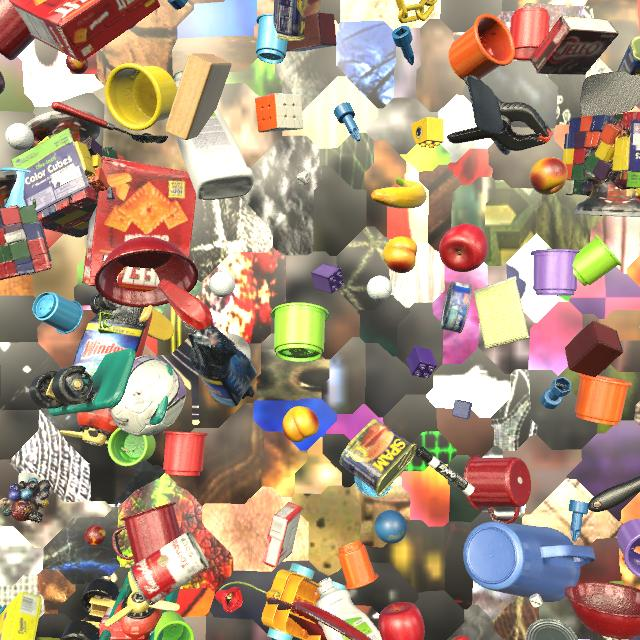ycb_003_cracker_box: (82, 157, 196, 292), (9, 0, 160, 63)
ycb_004_sugar_box: (0, 591, 42, 640)
ycb_005_tomato_soup_can: (130, 531, 209, 606)
ycb_007_tuna_fish_can: (440, 281, 472, 333), (525, 618, 578, 640)
ycb_008_pudding_box: (530, 16, 619, 75)
ycb_009_gelatin_box: (262, 502, 302, 567), (99, 607, 145, 640)
ycb_010_potted_meat_can: (340, 418, 417, 496), (273, 0, 321, 41), (615, 36, 640, 75)
ycb_011_banana: (371, 177, 427, 209)
ycb_012_strawberry: (451, 635, 470, 640)
ycb_013_apple: (439, 224, 488, 272), (378, 602, 425, 640), (129, 23, 137, 29)
ycb_015_peach: (530, 157, 568, 195), (282, 406, 319, 442), (383, 236, 417, 273)
ycb_018_plum: (612, 174, 636, 189), (0, 72, 5, 94)
